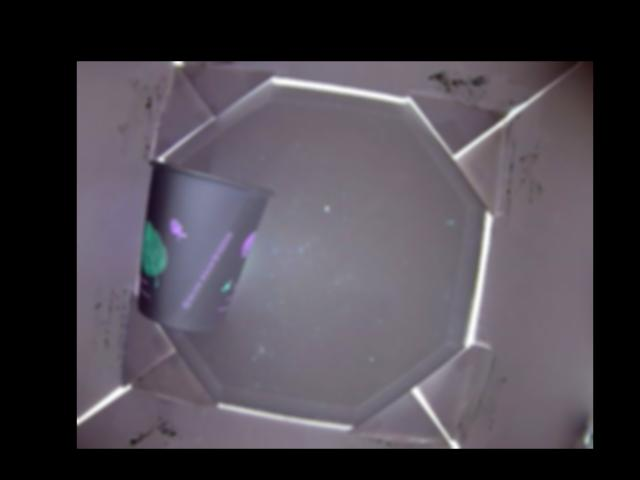Cup: (134, 158, 271, 327)
